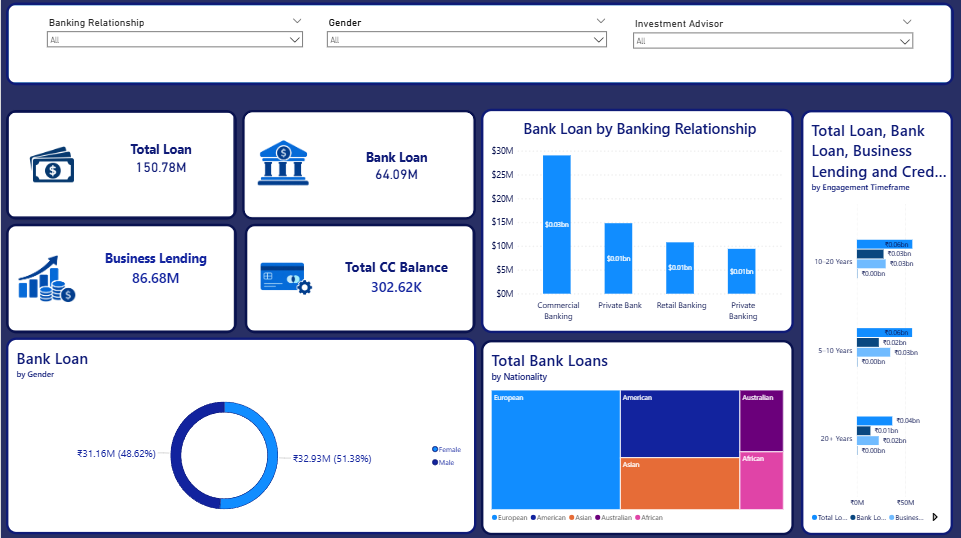

Layout of this report page (visuals, bound fields, positions):
{"tool":"powerbi","page":{"name":"LOAN ANALYSIS","canvas":[1920,1080],"ordinal":1},"visuals":[{"type":"shape","box":[9.2,5.5,1895.7,165.6],"z":1000},{"type":"cardVisual","title":"TOTAL LOAN","fields":{"Data":["Banking_Data.Total Loan"]},"box":[9.2,219,462,219],"z":2000},{"type":"cardVisual","fields":{"Data":["Banking_Data.Bank Loan"]},"box":[482.2,220.9,467.5,219],"z":3000},{"type":"cardVisual","fields":{"Data":["Banking_Data.Total Business Lending"]},"box":[9.2,447.2,462,219],"z":4000},{"type":"cardVisual","fields":{"Data":["Banking_Data.Total Credit Card Balance"]},"box":[487.7,447.2,462,219],"z":5000},{"type":"treemap","fields":{"Group":["Banking_Data.Nationality"],"Values":["Banking_Data.Total Bank Loans"]},"box":[960.7,679.1,625.8,390.2],"z":6000},{"type":"clusteredBarChart","fields":{"Category":["Banking_Data.Engagement Timeframe"],"Y":["Banking_Data.Total Loan","Banking_Data.Bank Loan","Banking_Data.Business Lending","Banking_Data.Credit Card Balance"]},"box":[1601.2,219,303.7,850.3],"z":7000},{"type":"donutChart","fields":{"Category":["Banking_Data.Gender1"],"Y":["Banking_Data.Bank Loan"]},"box":[9.2,675.5,940.5,393.9],"z":8000},{"type":"clusteredColumnChart","title":"Bank Loan by Banking Relationship","fields":{"Category":["Banking_Data.Banking Relationship"],"Y":["Banking_Data.Bank Loan"]},"box":[960.7,217.2,625.8,449.1],"z":9000},{"type":"slicer","fields":{"Values":["Banking_Data.Gender"]},"box":[647.9,33.1,568.7,108.6],"z":10000},{"type":"slicer","fields":{"Values":["Banking_Data.Banking Relationship"]},"box":[86.5,33.1,520.9,108.6],"z":11000},{"type":"slicer","fields":{"Values":["Banking_Data.Investment Advisor"]},"box":[1260.7,35,568.7,106.7],"z":12000}]}

Visuals, with their boxes in screenshot pixels (x1, y1, x2, y2), scaled from the page's 1920x1080 canvas onto the 961x538 screenshot:
shape: 5/3/953/85
"TOTAL LOAN" cardVisual: 5/109/236/218
cardVisual - Banking_Data.Bank Loan: 241/110/475/219
cardVisual - Banking_Data.Total Business Lending: 5/223/236/332
cardVisual - Banking_Data.Total Credit Card Balance: 244/223/475/332
treemap - Banking_Data.Nationality x Banking_Data.Total Bank Loans: 481/338/794/533
clusteredBarChart - Banking_Data.Engagement Timeframe x Banking_Data.Total Loan: 801/109/953/533
donutChart - Banking_Data.Gender1 x Banking_Data.Bank Loan: 5/336/475/533
"Bank Loan by Banking Relationship" clusteredColumnChart: 481/108/794/332
slicer - Banking_Data.Gender: 324/16/609/71
slicer - Banking_Data.Banking Relationship: 43/16/304/71
slicer - Banking_Data.Investment Advisor: 631/17/916/71
